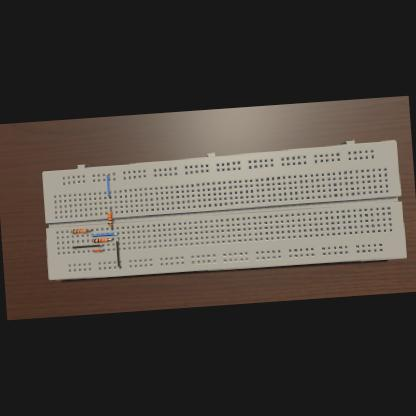breadboard: (41, 138, 407, 284)
resistor: (73, 230, 88, 235), (108, 212, 113, 226), (94, 238, 108, 243)
wire: (116, 238, 121, 268), (72, 244, 104, 248), (107, 174, 112, 198), (90, 234, 118, 238), (92, 249, 105, 252), (110, 226, 113, 229), (110, 208, 112, 212), (88, 230, 94, 231), (108, 239, 114, 240), (92, 240, 92, 242)
